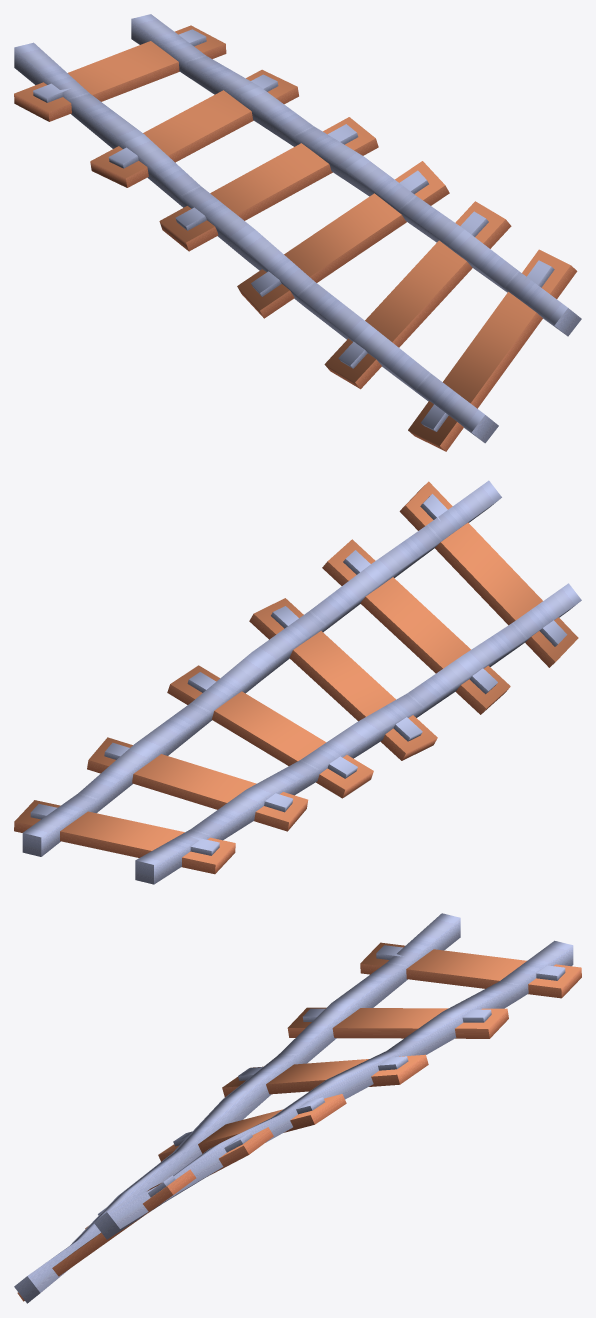
File: railroad-damaged-straight-skew-right.glb
3 views of the same model, one above another, from view 1: azimuth 30°, elevation 25°; view 2: azimuth 150°, elevation 25°; view 3: azimuth 330°, elevation 25° (orthographic). The views are drawn at different scales.
Visible parts, largest first — view 1: railroad-damaged-straight-skew-right; view 2: railroad-damaged-straight-skew-right; view 3: railroad-damaged-straight-skew-right.
Boxes of the visible parts, x1,y1,x2,y2 form: railroad-damaged-straight-skew-right: (14,14,581,451); railroad-damaged-straight-skew-right: (14,480,581,884); railroad-damaged-straight-skew-right: (14,913,581,1303).
Bounding box in the file's own units: 1.03 × 0.7246 × 4.
Materials: 1 (1 with a texture image).
